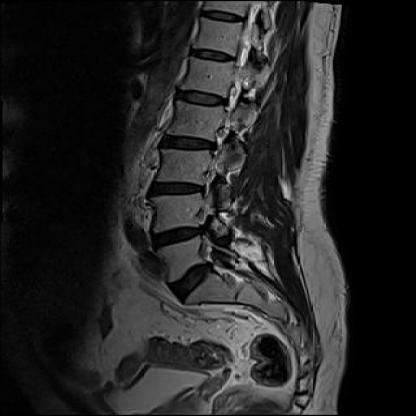Disc Bulgerotation: (157, 132, 215, 157), (149, 224, 202, 249), (149, 178, 206, 200)
Disc Protrusionrotation: (165, 266, 223, 297)
